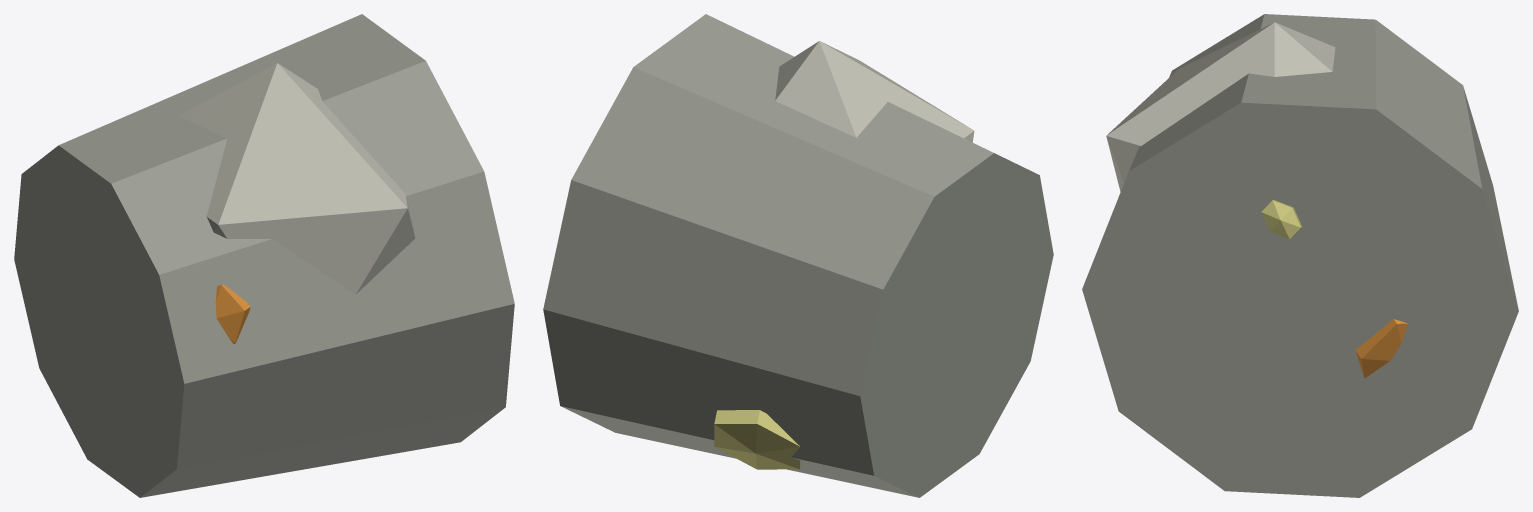
File: stone_giant_arm_r.glb
3 renders of one model, left to right at view 1: azimuth 30°, elevation 25°; view 2: azimuth 150°, elevation 25°; view 3: azimuth 270°, elevation 25°, orthographic.
Visible parts, largest first — view 1: stone_giant_arm_r; view 2: stone_giant_arm_r; view 3: stone_giant_arm_r.
Part boxes in pixels (bbox=[...]): stone_giant_arm_r: bbox=[14, 14, 514, 497]; stone_giant_arm_r: bbox=[543, 14, 1053, 497]; stone_giant_arm_r: bbox=[1082, 14, 1518, 497].
Bounding box in the file's own units: 0.2955 × 0.3409 × 0.3395.
